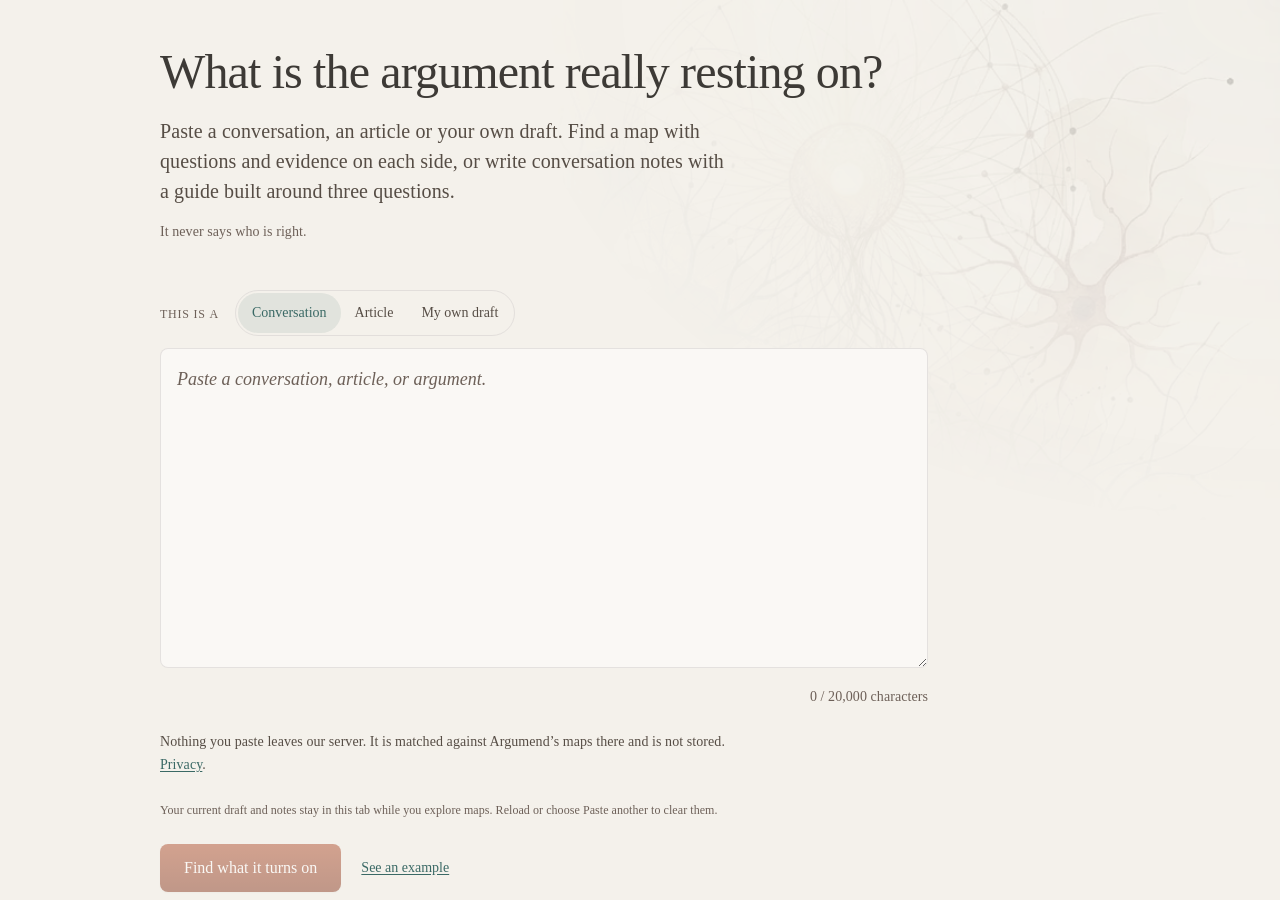
PasteClient with every lane off (production today) › names the map and sibling once, then offers actions for both plausible cruxes
Click the button "See an example" at coordinates (405, 868), box x1=361 y1=846 x2=449 y2=890
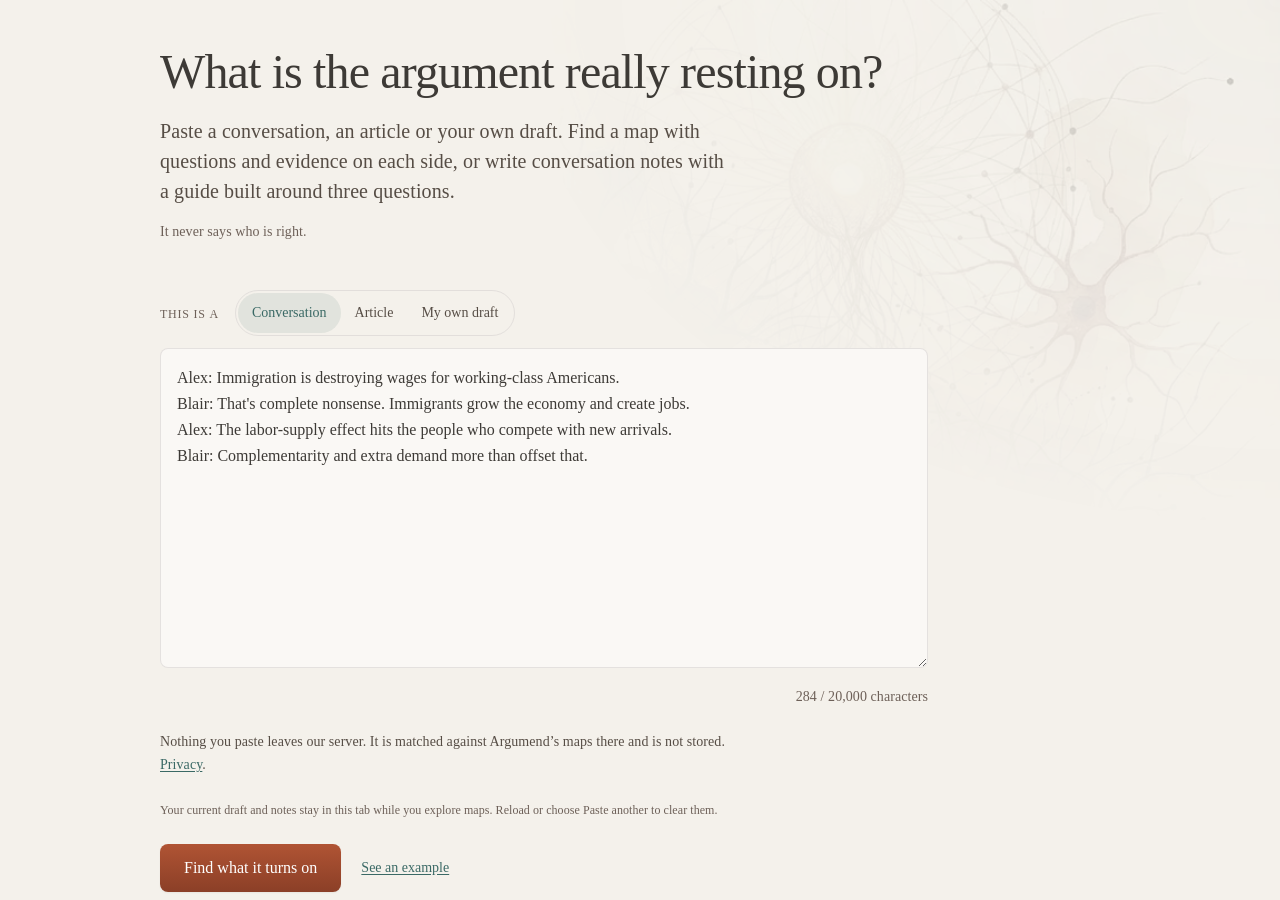
Click the button "Find what it turns on" at coordinates (251, 868), box x1=160 y1=844 x2=341 y2=892
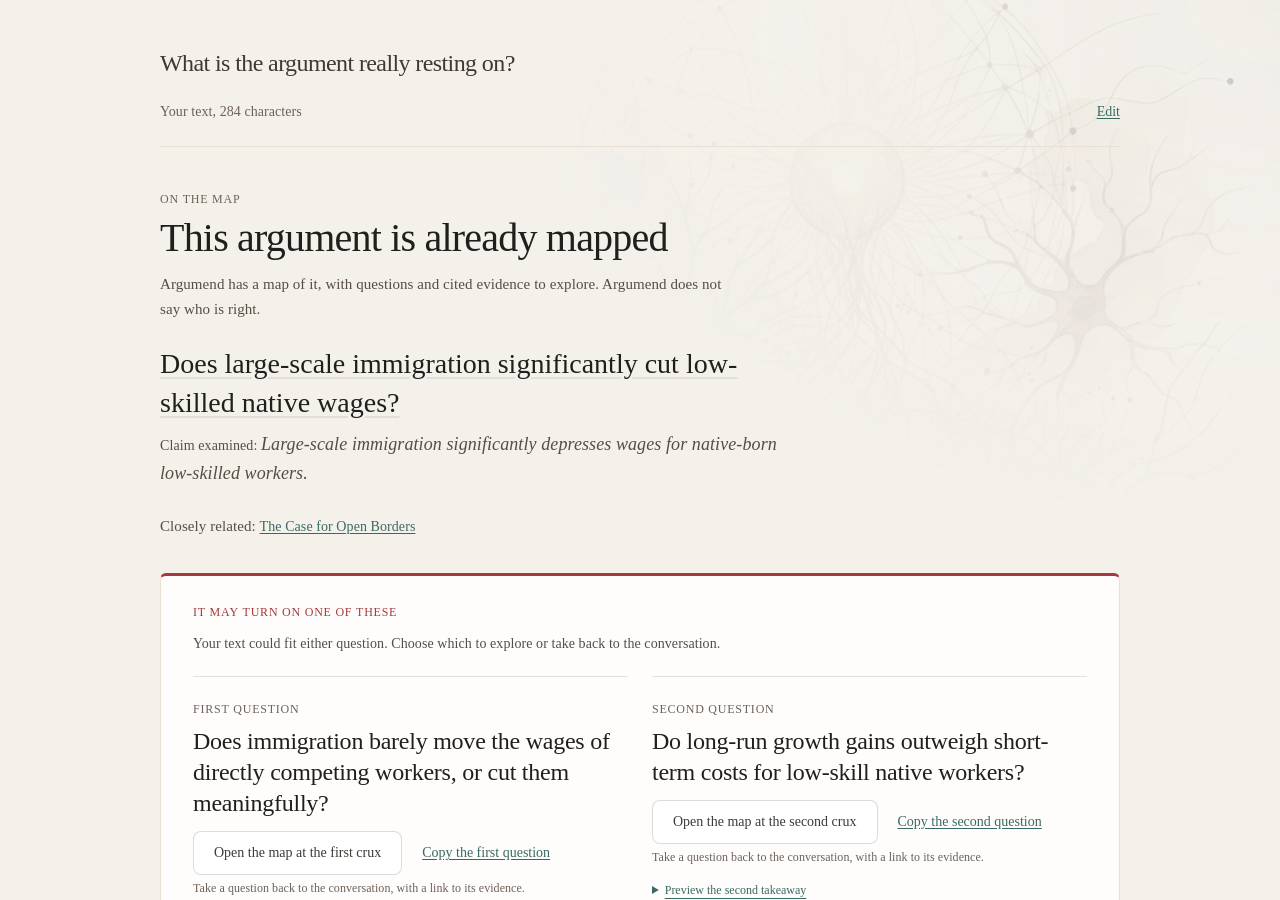
Now the heading "Do long-run growth gains outweigh short-term costs for low-skill native workers?" is shown, box x1=652 y1=726 x2=1087 y2=788
Now the button "Copy the first question" is shown, box x1=422 y1=831 x2=550 y2=875
Now the button "Copy the second question" is shown, box x1=898 y1=800 x2=1042 y2=844
